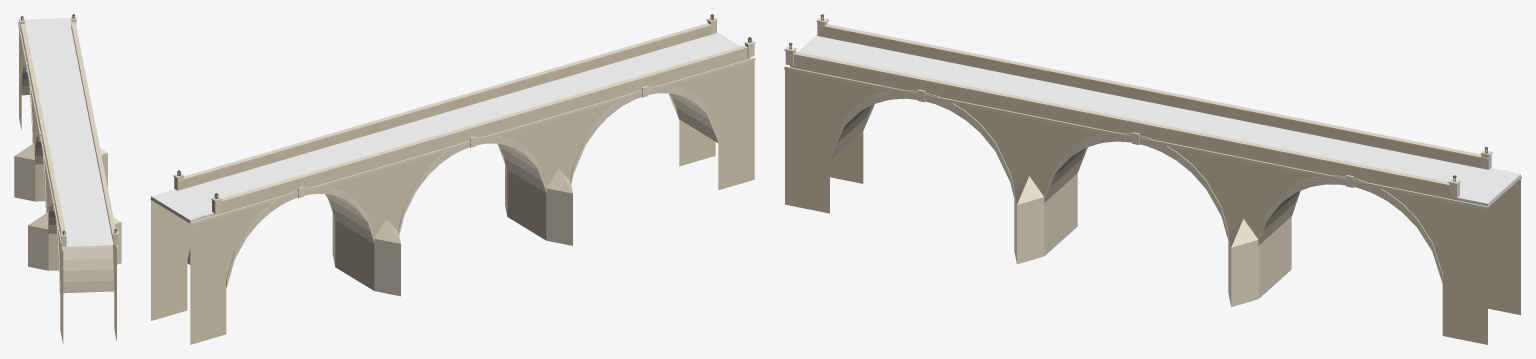
Rendered from SM_BM_BC_Ponte.glb.
The picture shows the model from 3 angles, left to right: view 1: azimuth 30°, elevation 25°; view 2: azimuth 150°, elevation 25°; view 3: azimuth 270°, elevation 25°; orthographic projection. The views are drawn at different scales.
Visible parts, largest first — view 1: SM_BM_BC_Ponte; view 2: SM_BM_BC_Ponte; view 3: SM_BM_BC_Ponte.
Part boxes in pixels (x1,y1,x2,y2): SM_BM_BC_Ponte: [14, 14, 121, 344]; SM_BM_BC_Ponte: [150, 14, 755, 344]; SM_BM_BC_Ponte: [784, 14, 1521, 344].
Size of the model in its own units: 36.56 by 16.15 by 66.4.
